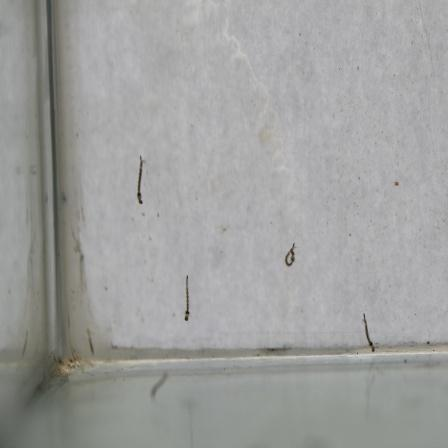Jentik-Nyamuk: (358, 308, 379, 355), (178, 270, 195, 326), (132, 152, 148, 209), (281, 240, 299, 272)
